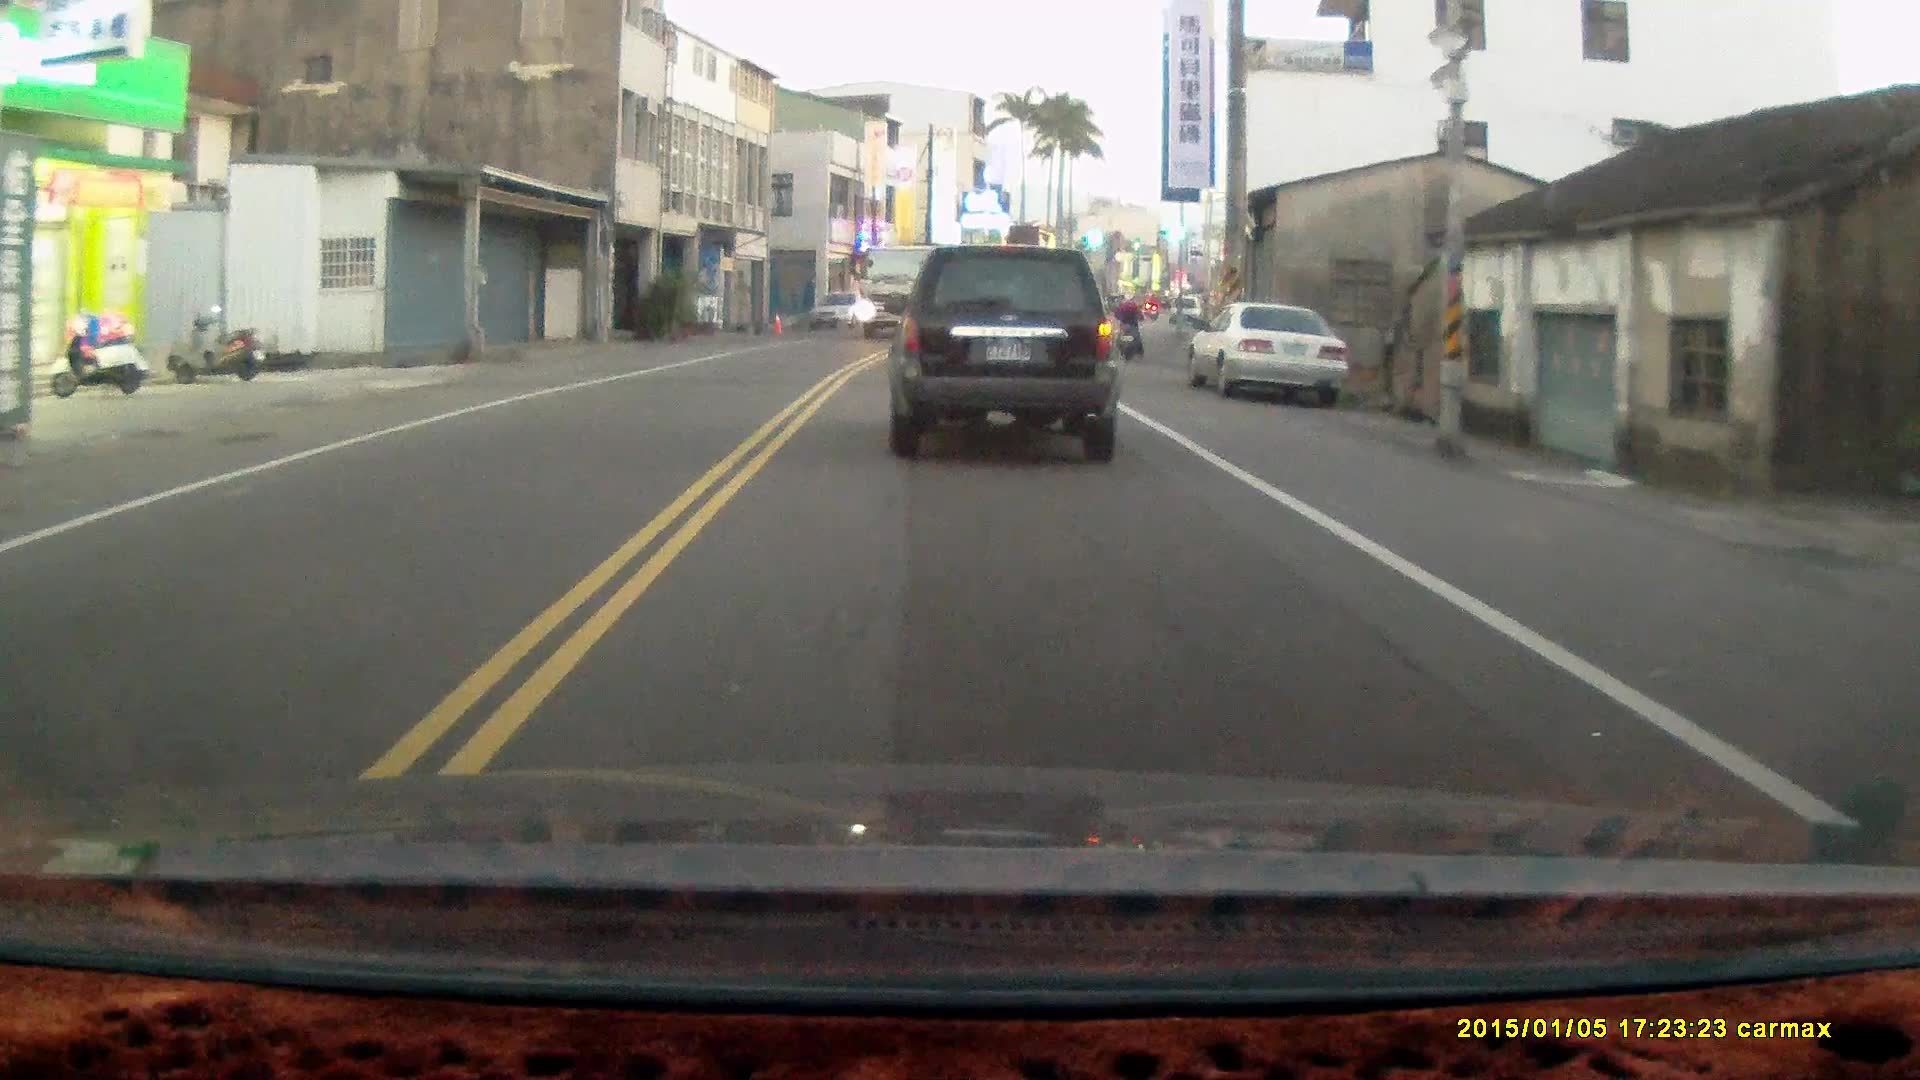rider: (1112, 289, 1144, 362)
vehicle: (888, 249, 1128, 467), (1188, 309, 1352, 422), (847, 243, 946, 341), (808, 291, 877, 336)
